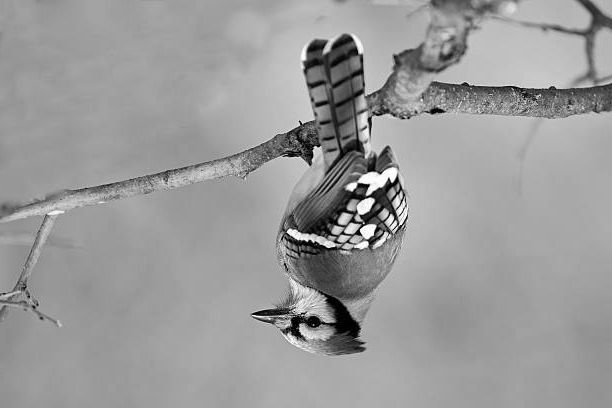Bird: (246, 28, 410, 364)
